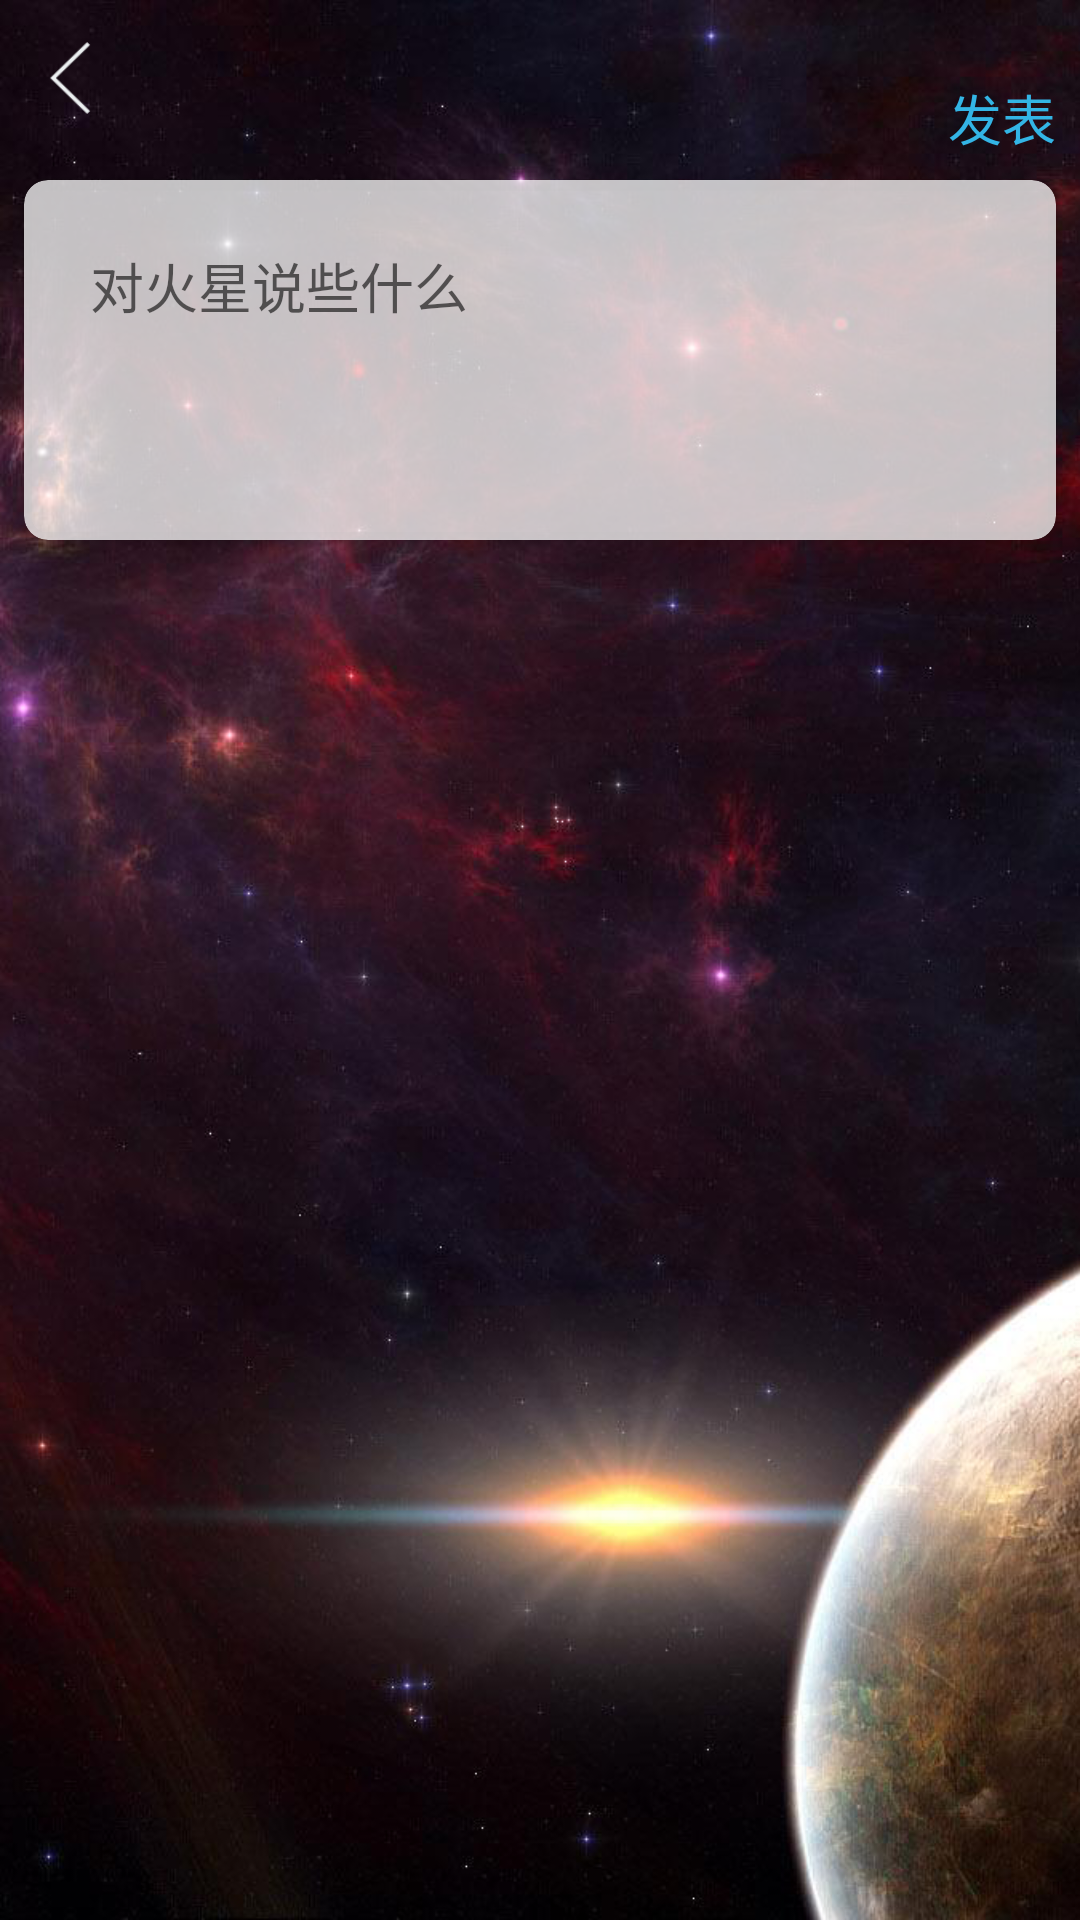

Screen size 1080px×1920px. Icon name, then its center in pixels as point (x, y):
back: point (85, 93)
